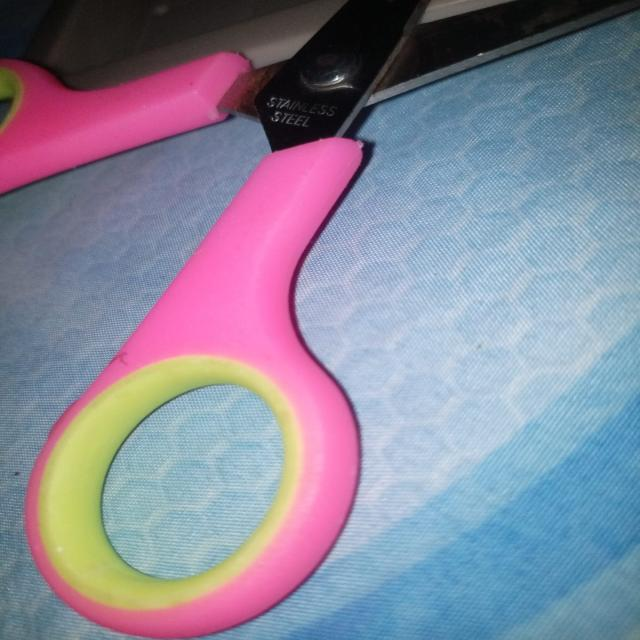scissor: (6, 1, 628, 640)
